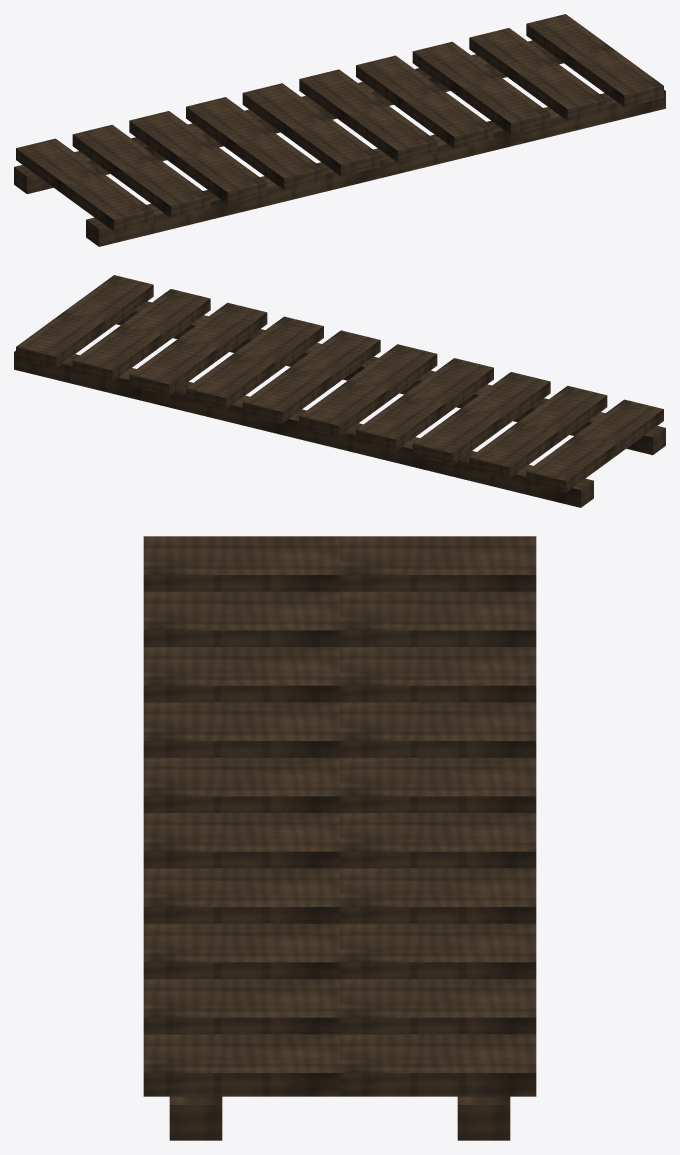
The model's file is duckboard.glb.
The picture shows the model from 3 angles, top to bottom: view 1: azimuth 30°, elevation 25°; view 2: azimuth 150°, elevation 25°; view 3: azimuth 270°, elevation 25°; orthographic projection. The views are drawn at different scales.
Parts seen in each view (by area): view 1: duckboard; view 2: duckboard; view 3: duckboard.
Boxes of the visible parts, <box> form: duckboard: <box>14,14,665,246</box>; duckboard: <box>14,275,665,507</box>; duckboard: <box>143,536,536,1140</box>.
Size of the model in its own units: 2 by 0.1 by 0.6.
1 material, 1 textured.
